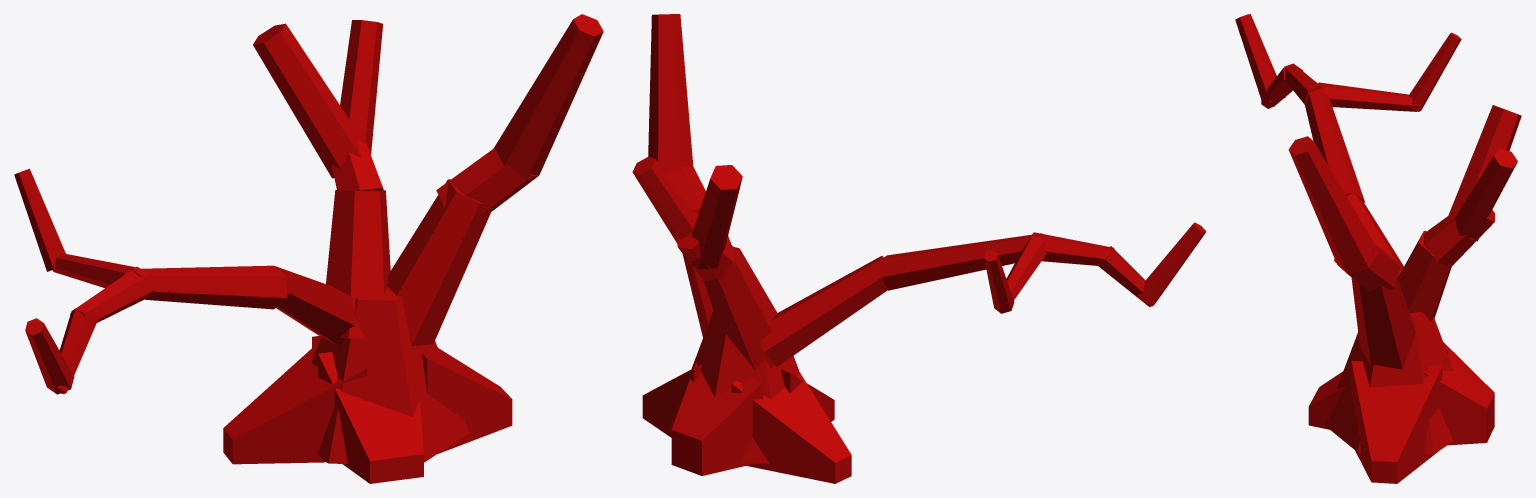
File: SM_Env_Tree_Pohutukawa_01_Collision.gltf
The picture shows the model from 3 angles, left to right: view 1: azimuth 30°, elevation 25°; view 2: azimuth 150°, elevation 25°; view 3: azimuth 270°, elevation 25°; orthographic projection. The views are drawn at different scales.
Parts seen in each view (by area): view 1: SM_Env_Tree_Pohutukawa_01_Collision; view 2: SM_Env_Tree_Pohutukawa_01_Collision; view 3: SM_Env_Tree_Pohutukawa_01_Collision.
Boxes of the visible parts, <box> form: SM_Env_Tree_Pohutukawa_01_Collision: <box>14,14,603,483</box>; SM_Env_Tree_Pohutukawa_01_Collision: <box>632,14,1206,483</box>; SM_Env_Tree_Pohutukawa_01_Collision: <box>1235,14,1521,483</box>.
Bounding box in the file's own units: 4.88 × 3.28 × 2.4.
